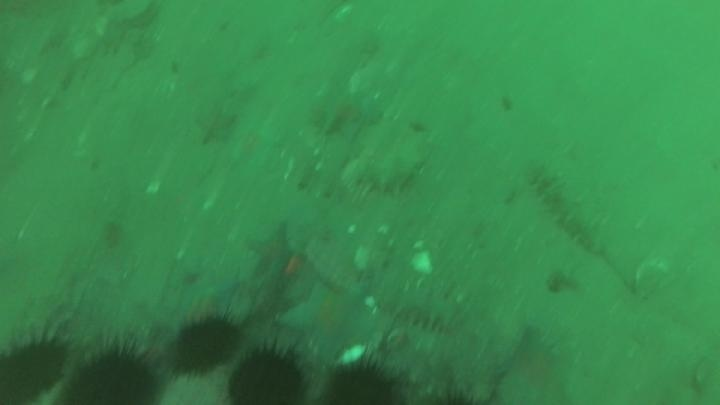echinus: (62, 342, 162, 405), (1, 329, 72, 404), (226, 347, 308, 405), (171, 314, 242, 376), (320, 357, 405, 404), (407, 375, 492, 404)
holothurian: (525, 161, 609, 257), (341, 131, 431, 198), (374, 278, 465, 334)
scallop: (631, 257, 674, 300), (105, 1, 164, 31)
starfish: (277, 279, 378, 360), (495, 325, 578, 405), (314, 85, 382, 142), (246, 221, 303, 281), (177, 273, 242, 324), (226, 115, 281, 168), (192, 103, 241, 147)
